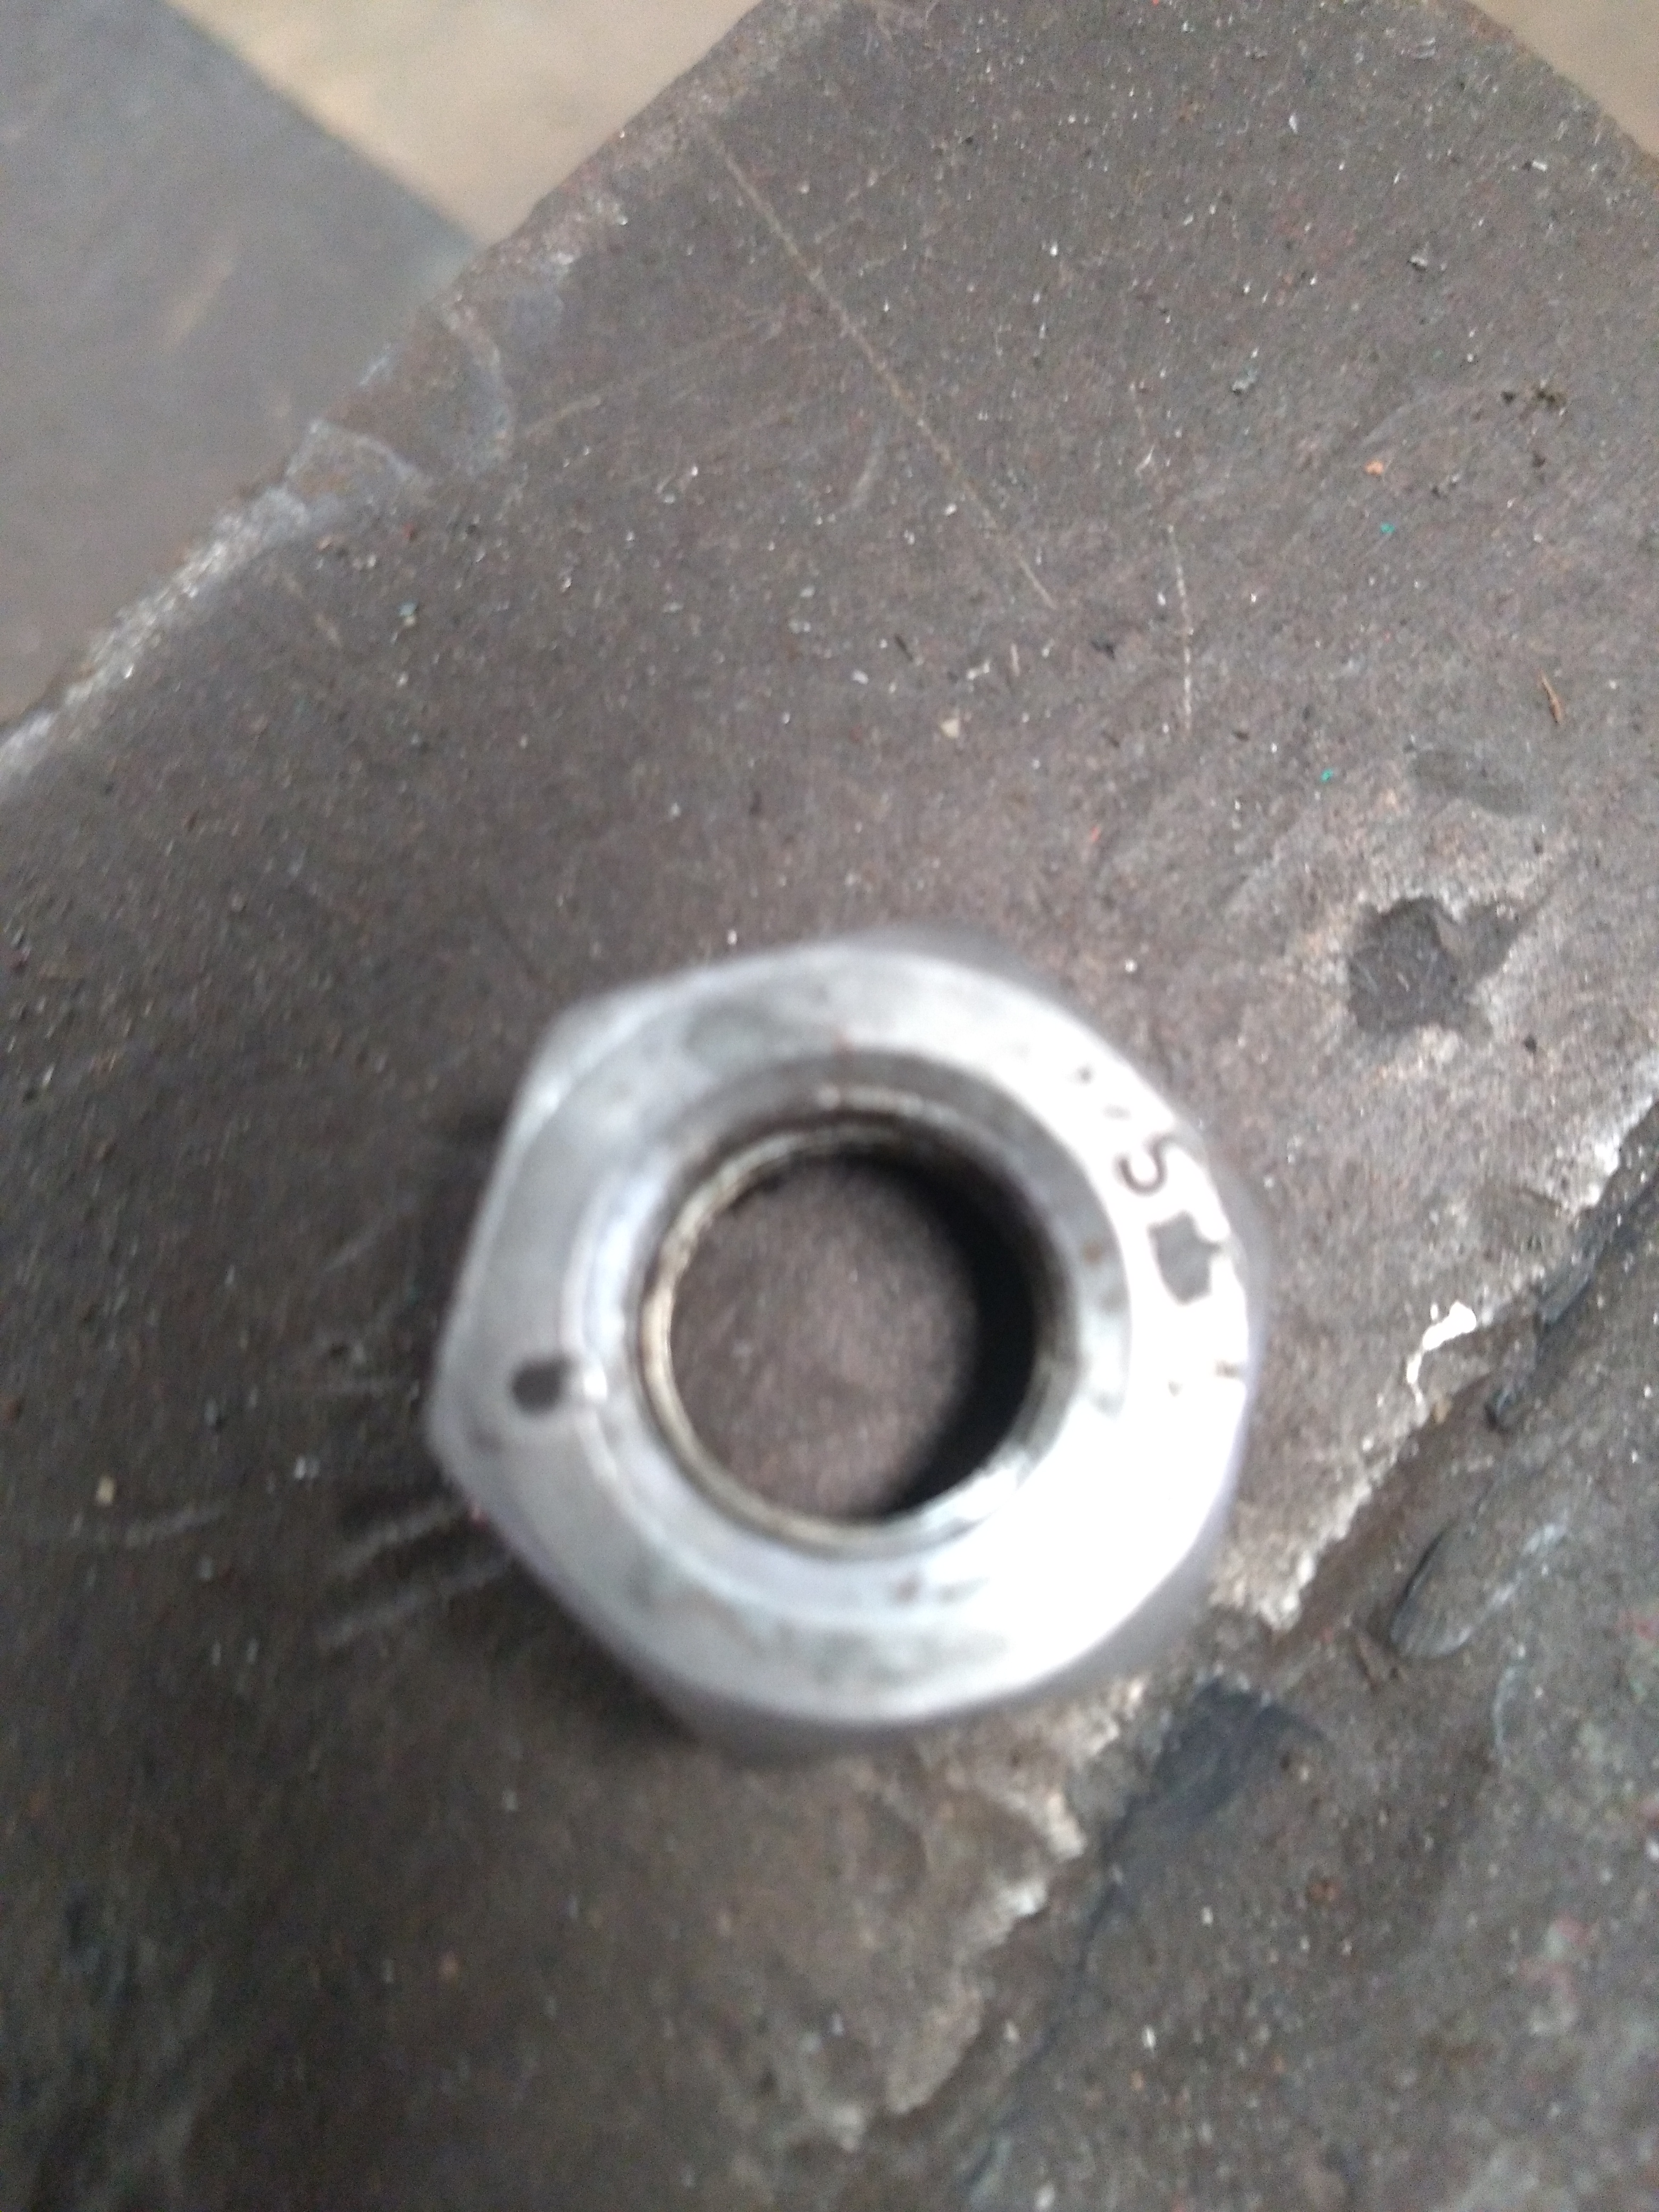Thread: (532, 1083, 1169, 1569)
